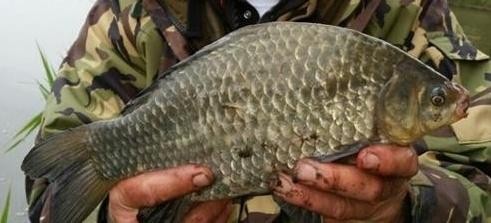Silver Carp: (24, 21, 471, 223)
